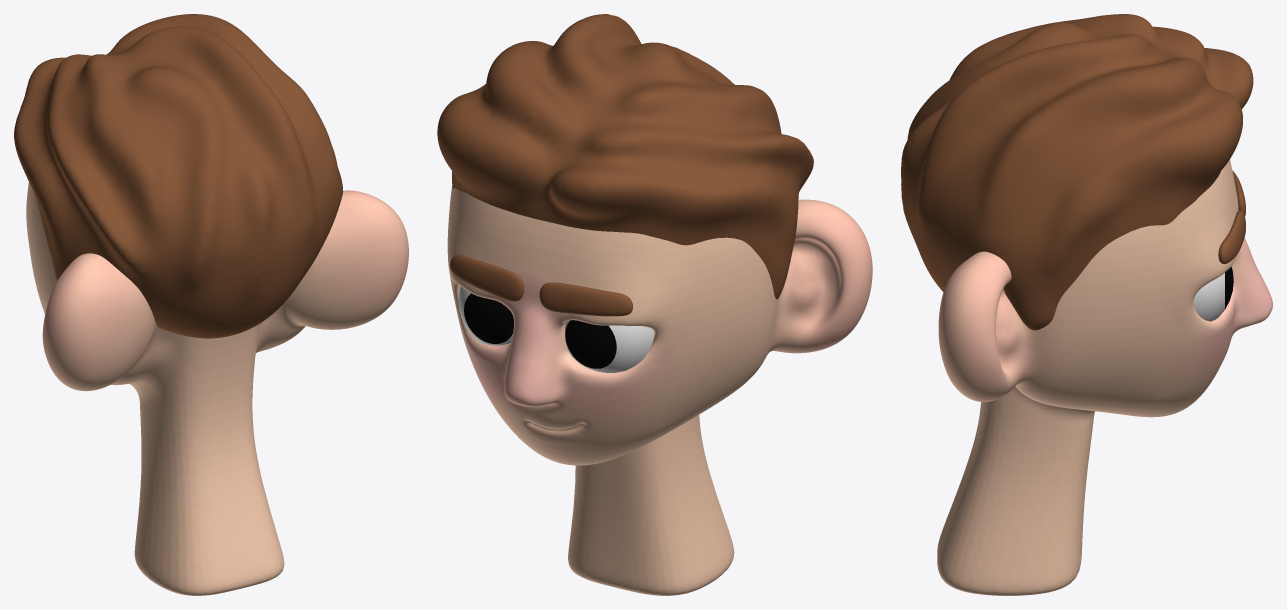
The model's file is avatar2export.glb.
3 renders of one model, left to right at view 1: azimuth 30°, elevation 25°; view 2: azimuth 150°, elevation 25°; view 3: azimuth 270°, elevation 25°, orthographic. The views are drawn at different scales.
Visible parts, largest first — view 1: Hair, FullHead; view 2: FullHead, Hair, Eyes, Brows; view 3: Hair, FullHead, Eyes, Brows.
Part boxes in pixels (x1=…): Hair: x1=14, y1=14, x2=343, y2=338; FullHead: x1=26, y1=182, x2=408, y2=595; FullHead: x1=447, y1=186, x2=872, y2=595; Hair: x1=437, y1=14, x2=813, y2=299; Eyes: x1=458, y1=286, x2=654, y2=372; Brows: x1=450, y1=254, x2=632, y2=316; Hair: x1=901, y1=14, x2=1253, y2=330; FullHead: x1=937, y1=159, x2=1272, y2=595; Eyes: x1=1193, y1=266, x2=1233, y2=321; Brows: x1=1218, y1=170, x2=1245, y2=263.
Size of the model in its own units: 2.11 by 2.84 by 1.76.
